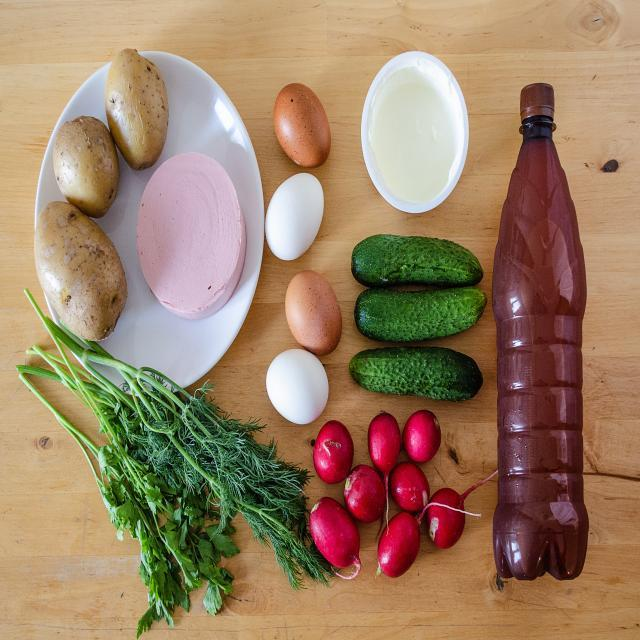cucumber: (349, 343, 482, 405), (351, 234, 483, 292), (350, 285, 488, 335)
egg: (263, 176, 329, 264), (267, 346, 331, 426), (274, 84, 330, 171), (286, 273, 343, 356)
potato: (38, 206, 127, 340), (51, 119, 123, 215), (110, 47, 165, 164)
